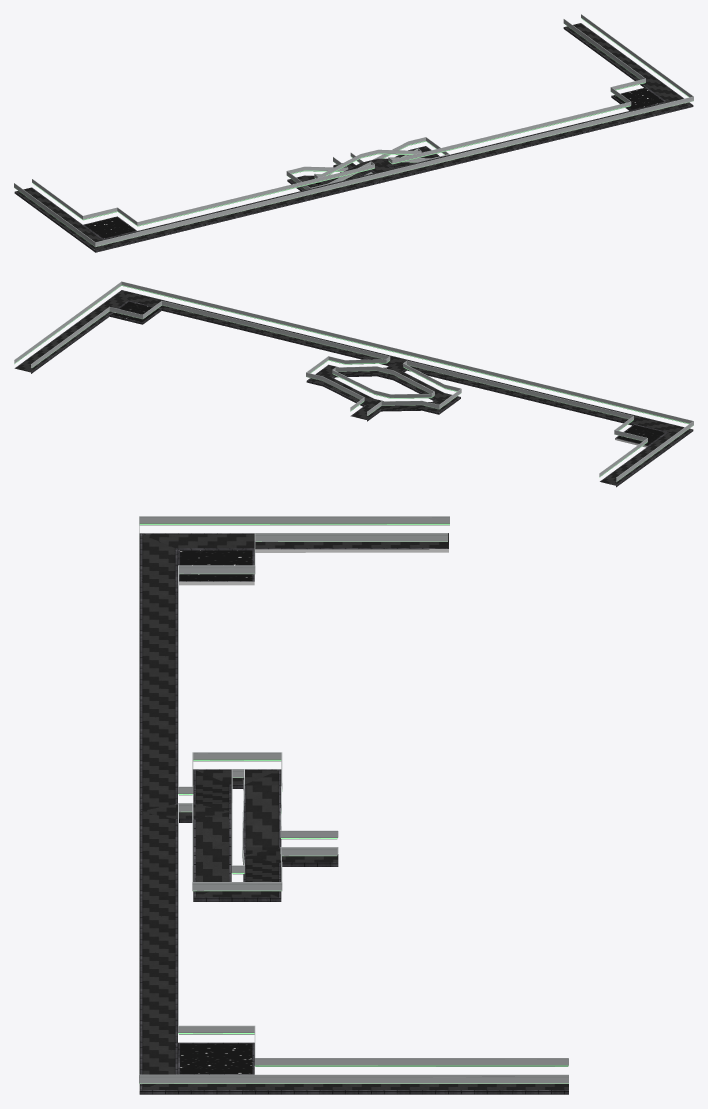
The model's file is entity14116.gltf.
3 renders of one model, top to bottom at view 1: azimuth 30°, elevation 25°; view 2: azimuth 150°, elevation 25°; view 3: azimuth 270°, elevation 25°, orthographic. The views are drawn at different scales.
Visible parts, largest first — view 1: node_Exhibit_Str_Bridge_2_Art, node_Exhibit_Str_Bridge_Railing_2; view 2: node_Exhibit_Str_Bridge_2_Art, node_Exhibit_Str_Bridge_Railing_2; view 3: node_Exhibit_Str_Bridge_2_Art, node_Exhibit_Str_Bridge_Railing_2.
Part boxes in pixels (bbox=[...]): node_Exhibit_Str_Bridge_2_Art: bbox=[14, 23, 693, 252]; node_Exhibit_Str_Bridge_Railing_2: bbox=[14, 14, 693, 246]; node_Exhibit_Str_Bridge_2_Art: bbox=[14, 290, 693, 487]; node_Exhibit_Str_Bridge_Railing_2: bbox=[14, 281, 693, 481]; node_Exhibit_Str_Bridge_2_Art: bbox=[139, 533, 568, 1094]; node_Exhibit_Str_Bridge_Railing_2: bbox=[139, 516, 568, 1083].
Size of what is drawn, in the model's own units: 69.15 by 3.69 by 22.51.
Materials: 3 (2 with a texture image).
